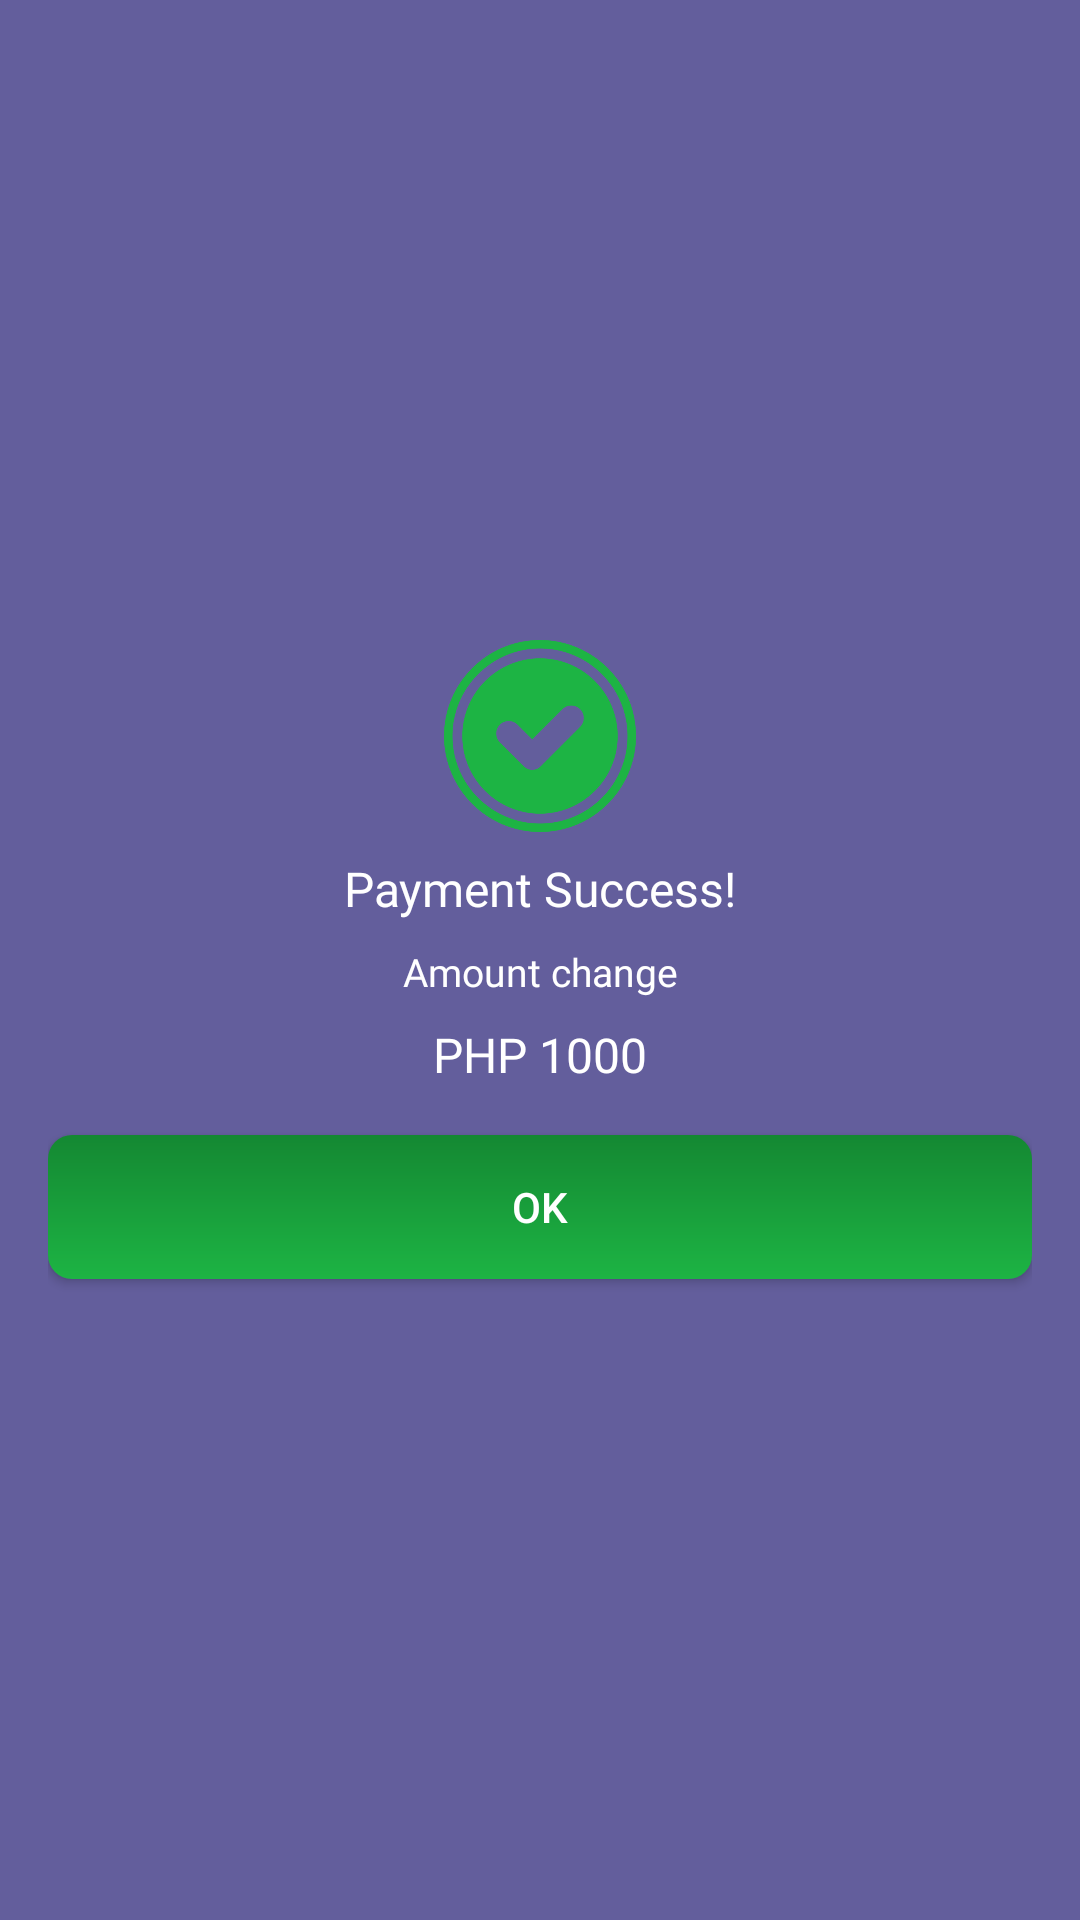

Named icons in this screenshot (1080 x 1920) and their centers, [x,y]:
check: [540,736]
